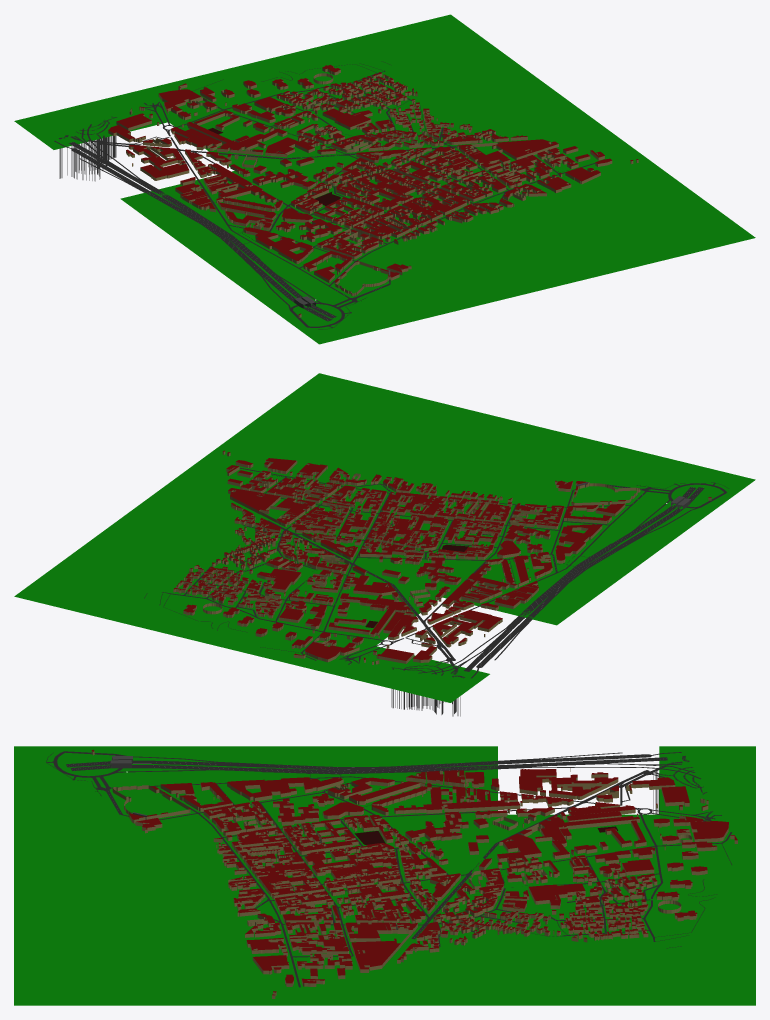
File: planet_2.413_48.853_f55ff5ae.osm.obj
3 renders of one model, top to bottom at view 1: azimuth 30°, elevation 25°; view 2: azimuth 150°, elevation 25°; view 3: azimuth 270°, elevation 25°, orthographic. The views are drawn at different scales.
Parts seen in each view (by area): view 1: SurfaceArea2479, SurfaceArea2474, SurfaceArea2469, SurfaceArea2487, SurfaceArea2484, SurfaceArea2486, SurfaceArea2485, SurfaceArea2470, SurfaceArea2483, SurfaceArea2480, SurfaceArea2473, SurfaceArea2471 (+12 smaller); view 2: SurfaceArea2479, SurfaceArea2474, SurfaceArea2469, SurfaceArea2484, SurfaceArea2487, SurfaceArea2486, SurfaceArea2485, SurfaceArea2470, SurfaceArea2483, SurfaceArea2471, SurfaceArea2473, SurfaceArea2480 (+12 smaller); view 3: SurfaceArea2479, SurfaceArea2474, SurfaceArea2469, SurfaceArea2484, SurfaceArea2487, SurfaceArea2486, SurfaceArea2485, SurfaceArea2470, SurfaceArea2483, SurfaceArea2480, SurfaceArea2473, SurfaceArea2471 (+25 smaller).
Part boxes in pixels (<box>): SurfaceArea2479: <box>483,212,663,288</box>; SurfaceArea2474: <box>368,240,548,316</box>; SurfaceArea2469: <box>253,268,433,344</box>; SurfaceArea2487: <box>399,43,556,114</box>; SurfaceArea2484: <box>598,189,755,260</box>; SurfaceArea2486: <box>465,92,622,160</box>; SurfaceArea2485: <box>534,141,688,211</box>; SurfaceArea2470: <box>187,222,367,295</box>; SurfaceArea2483: <box>244,37,397,92</box>; SurfaceArea2480: <box>421,166,597,239</box>; SurfaceArea2473: <box>14,93,167,149</box>; SurfaceArea2471: <box>120,171,290,247</box>; SurfaceArea2479: <box>345,395,525,472</box>; SurfaceArea2474: <box>460,423,640,500</box>; SurfaceArea2469: <box>575,451,755,528</box>; SurfaceArea2484: <box>253,373,410,443</box>; SurfaceArea2487: <box>54,519,211,589</box>; SurfaceArea2486: <box>120,470,268,541</box>; SurfaceArea2485: <box>187,422,344,490</box>; SurfaceArea2470: <box>515,500,688,576</box>; SurfaceArea2483: <box>106,590,259,646</box>; SurfaceArea2471: <box>442,552,622,625</box>; SurfaceArea2473: <box>336,646,489,702</box>; SurfaceArea2480: <box>290,444,459,518</box>; SurfaceArea2479: <box>14,882,175,950</box>; SurfaceArea2474: <box>14,814,175,882</box>; SurfaceArea2469: <box>14,746,175,814</box>; SurfaceArea2484: <box>14,951,175,1005</box>; SurfaceArea2487: <box>498,951,659,1005</box>; SurfaceArea2486: <box>336,951,497,1005</box>; SurfaceArea2485: <box>175,951,336,1005</box>; SurfaceArea2470: <box>175,746,336,814</box>; SurfaceArea2483: <box>659,882,755,950</box>; SurfaceArea2480: <box>175,882,336,950</box>; SurfaceArea2473: <box>659,746,755,814</box>; SurfaceArea2471: <box>336,746,497,814</box>.
Bounding box in the file's own units: 1140 × 110 × 1380.
